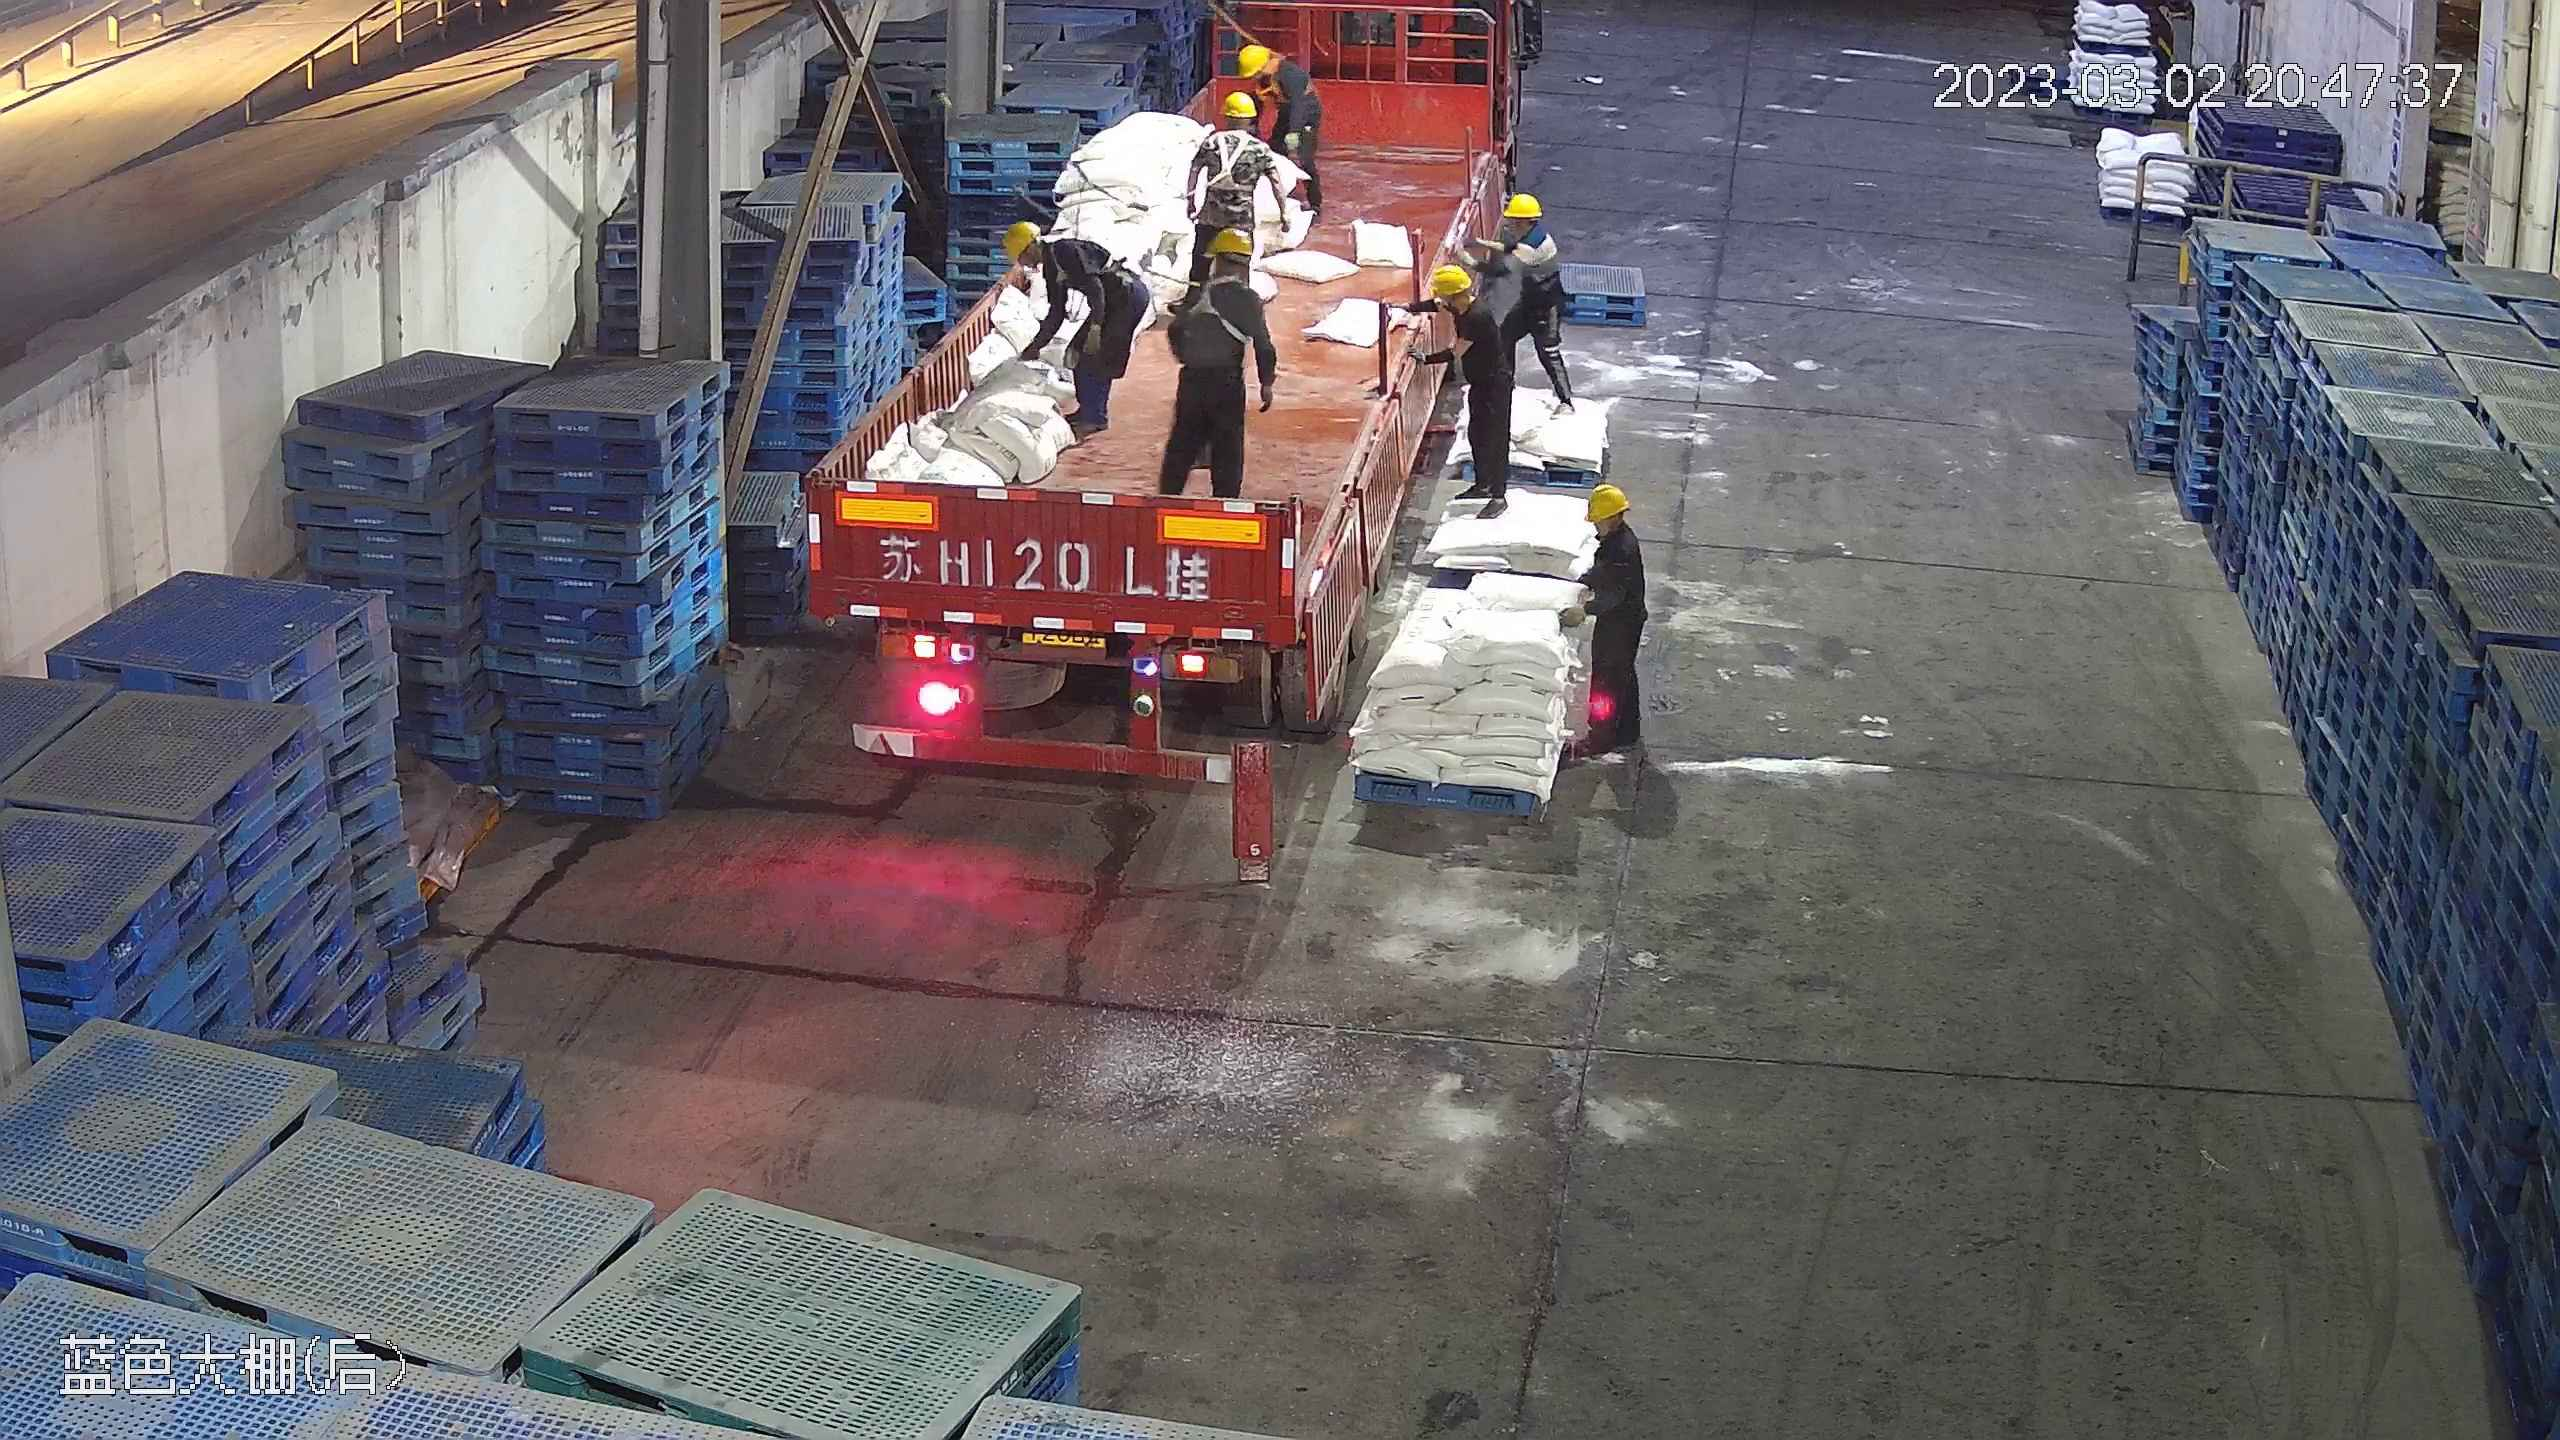belt: (1169, 267, 1249, 333), (1192, 132, 1262, 199), (1049, 234, 1123, 293), (1263, 60, 1312, 113)
head: (1171, 227, 1264, 317), (1415, 262, 1502, 353), (1192, 92, 1274, 177), (1577, 481, 1646, 583), (1002, 221, 1087, 297), (1482, 191, 1565, 267), (1232, 39, 1304, 99)
helmet: (1583, 481, 1632, 521), (1201, 223, 1254, 258), (1428, 260, 1475, 297), (1000, 221, 1039, 264), (1218, 90, 1263, 122), (1237, 39, 1275, 76), (1503, 191, 1543, 219)
people: (1152, 223, 1277, 502), (1002, 218, 1152, 442), (1565, 481, 1660, 766), (1417, 257, 1514, 513), (1188, 83, 1310, 273), (1481, 186, 1573, 428), (1235, 38, 1323, 224)
truck: (791, 18, 1494, 777)
